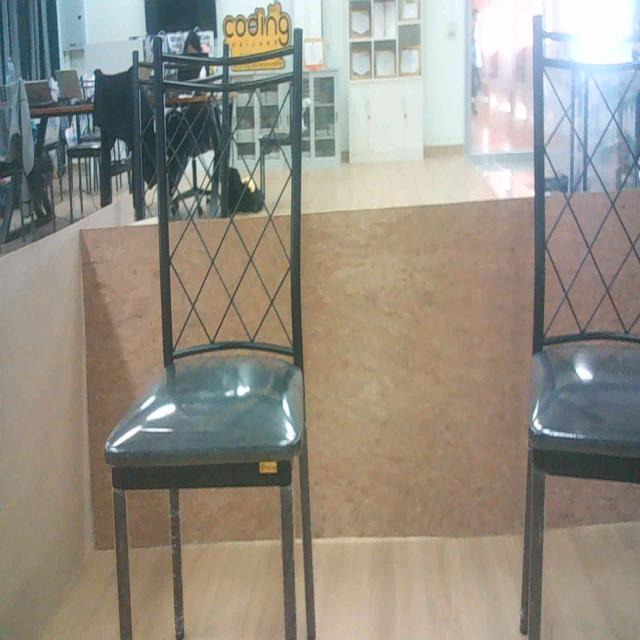emtpy: (122, 73, 303, 640), (526, 20, 640, 640)
